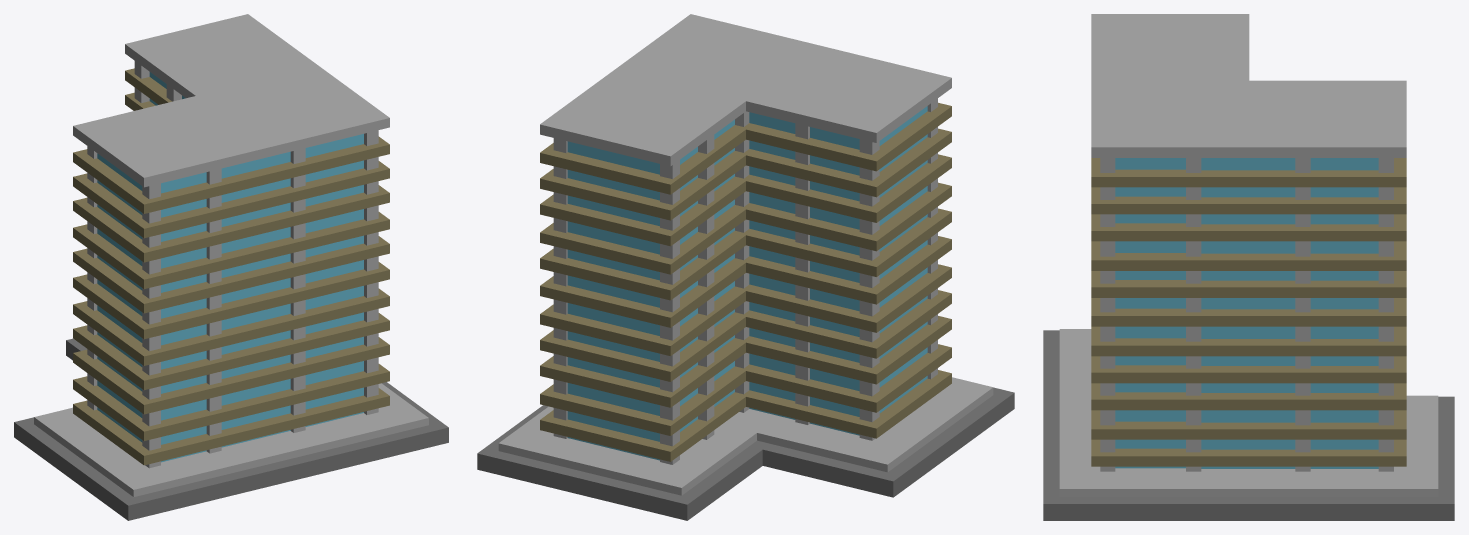
Rendered from Towers4.fbx.
3 views of the same model, side by side, from view 1: azimuth 30°, elevation 25°; view 2: azimuth 150°, elevation 25°; view 3: azimuth 270°, elevation 25° (orthographic). The views are drawn at different scales.
Visible parts, largest first — view 1: pCube143, pCube119, pCube114, pCube144, pCube116, pCube127, pCube145, pCube128, pCube146, pCube95, pCube110, pCube105 (+25 smaller); view 2: pCube142, pCube119, pCube116, pCube144, pCube114, pCube129, pCube147, pCube127, pCube145, pCube105, pCube106, pCube125 (+27 smaller); view 3: pCube142, pCube114, pCube116, pCube119, pCube148, pCube128, pCube143, pCube129, pCube146, pCube147, pCube108, pCube103 (+26 smaller).
Boxes of the visible parts, x1,y1,x2,y2 form: pCube143: (245, 134, 363, 441); pCube119: (73, 96, 266, 187); pCube114: (196, 66, 389, 157); pCube144: (97, 153, 247, 462); pCube116: (125, 14, 318, 98); pCube127: (34, 407, 305, 496); pCube145: (14, 417, 325, 520); pCube128: (244, 383, 428, 466); pCube146: (244, 382, 448, 489); pCube95: (73, 376, 266, 440); pCube110: (73, 224, 266, 289); pCube105: (73, 301, 266, 365); pCube142: (567, 126, 725, 460); pCube119: (746, 46, 951, 142); pCube116: (540, 69, 745, 166); pCube144: (768, 106, 927, 435); pCube114: (615, 14, 820, 100); pCube129: (498, 406, 779, 495); pCube147: (477, 405, 762, 520); pCube127: (757, 377, 993, 472); pCube145: (749, 387, 1014, 497); pCube105: (746, 264, 951, 332); pCube106: (746, 290, 951, 358); pCube125: (746, 154, 951, 222); pCube142: (1264, 158, 1378, 468); pCube114: (1091, 80, 1249, 157); pCube116: (1248, 80, 1406, 157); pCube119: (1091, 14, 1249, 80); pCube148: (1201, 158, 1313, 468); pCube128: (1059, 395, 1280, 496); pCube143: (1115, 158, 1185, 468); pCube129: (1217, 395, 1438, 496); pCube146: (1043, 411, 1296, 520); pCube147: (1201, 396, 1454, 520); pCube108: (1091, 326, 1249, 356); pCube103: (1248, 326, 1406, 356).
Size of the model in its own units: 14.42 by 13.67 by 14.42.
